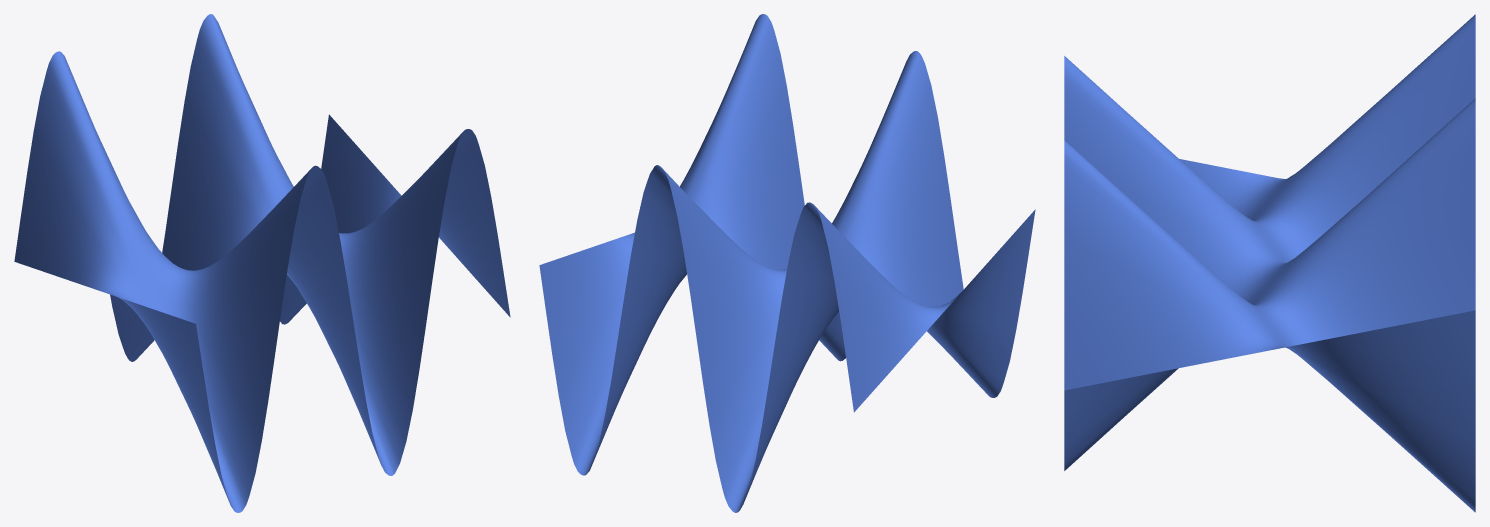
The model's file is superficie cuadratica.fbx.
3 renders of one model, left to right at view 1: azimuth 30°, elevation 25°; view 2: azimuth 150°, elevation 25°; view 3: azimuth 270°, elevation 25°, orthographic. The views are drawn at different scales.
Parts seen in each view (by area): view 1: polySurface223; view 2: polySurface223; view 3: polySurface223.
Part boxes in pixels (x1,y1,x2,y2): polySurface223: [14, 14, 510, 512]; polySurface223: [539, 14, 1035, 512]; polySurface223: [1064, 14, 1475, 512].
Bounding box in the file's own units: 13 × 12.99 × 13.
